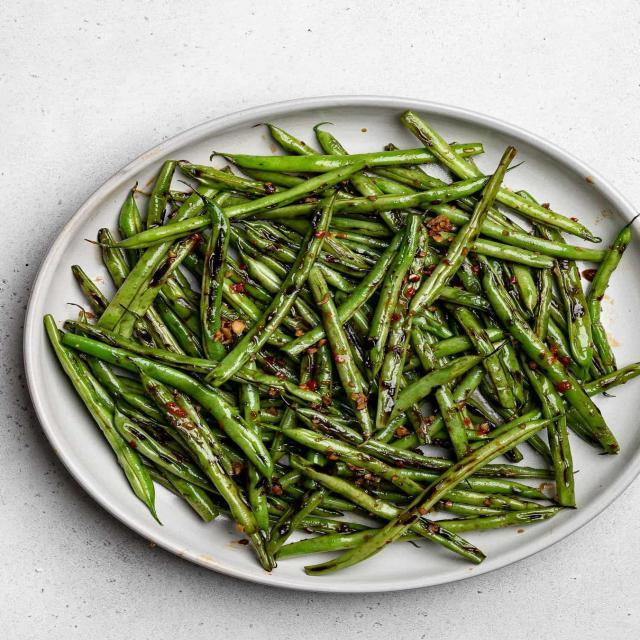Beans: (39, 115, 639, 570)
